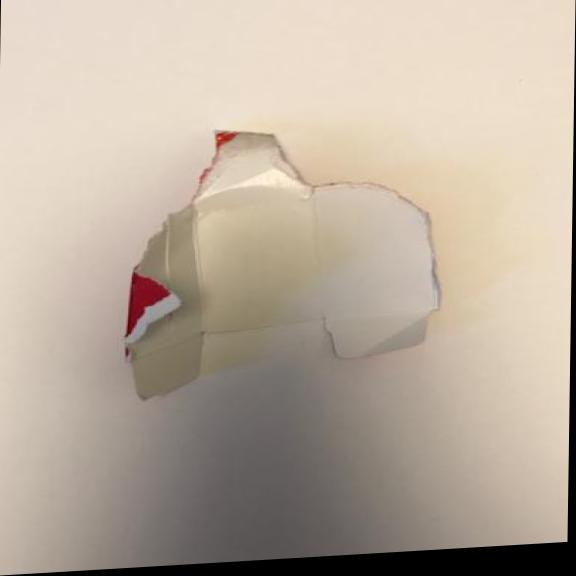Kertas: (105, 109, 454, 408)
